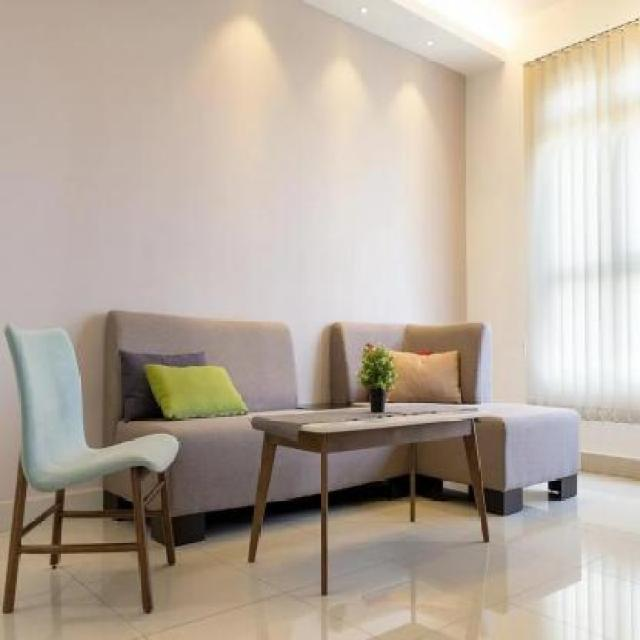floor: (0, 467, 640, 640), (63, 514, 135, 542), (67, 480, 101, 511), (0, 495, 11, 587), (26, 486, 51, 522), (25, 515, 52, 543)
